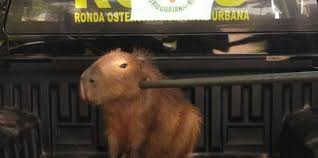capivara: (78, 47, 204, 158)
